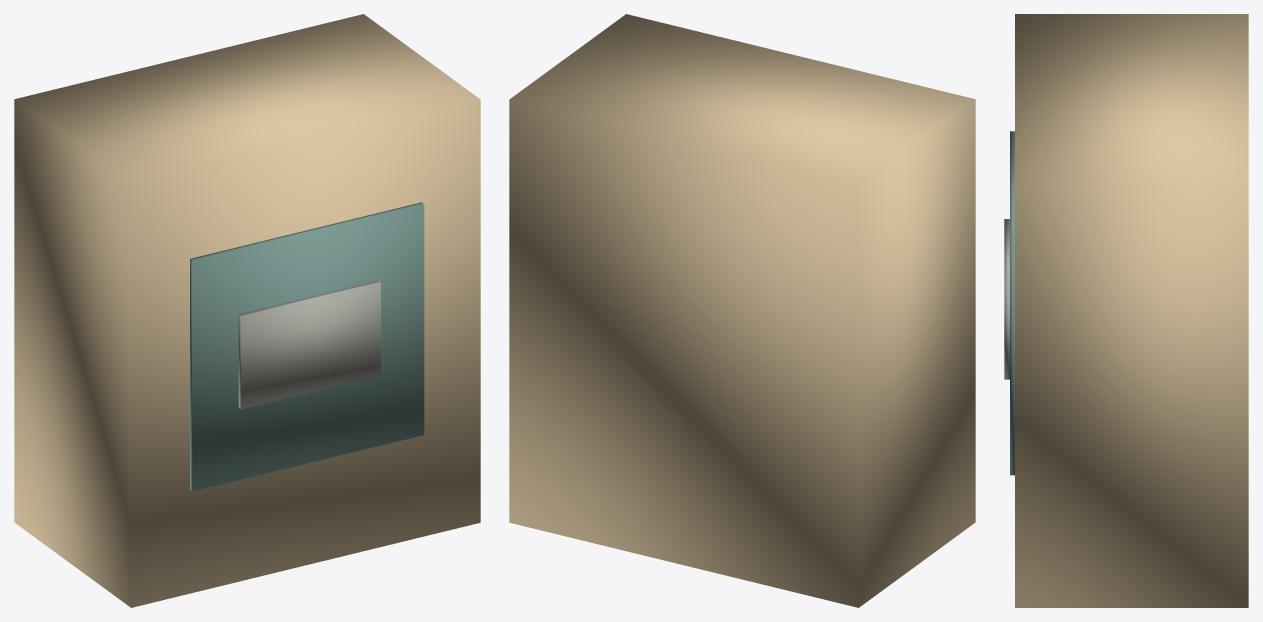
The model's file is material-cement-sack.glb.
The picture shows the model from 3 angles, left to right: view 1: azimuth 30°, elevation 25°; view 2: azimuth 150°, elevation 25°; view 3: azimuth 270°, elevation 25°; orthographic projection.
Visible parts, largest first — view 1: Soft paper sack, Printed label, Cement symbol; view 2: Soft paper sack; view 3: Soft paper sack, Printed label, Cement symbol.
Part boxes in pixels (x1,y1,x2,y2): Soft paper sack: [14, 14, 480, 607]; Printed label: [190, 202, 424, 491]; Cement symbol: [238, 281, 380, 409]; Soft paper sack: [509, 14, 975, 607]; Soft paper sack: [1015, 14, 1248, 607]; Printed label: [1010, 131, 1014, 475]; Cement symbol: [1004, 219, 1009, 379].
Bounding box in the file's own units: 0.95 × 1.1 × 0.5755.
